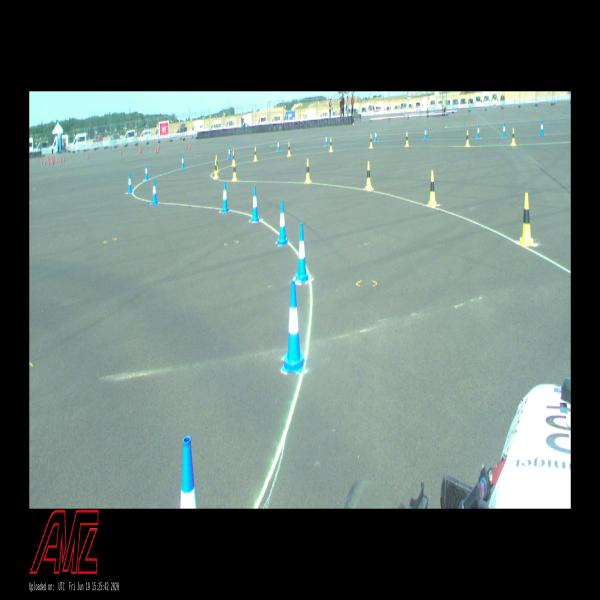blue_cone: (282, 281, 305, 372), (180, 436, 197, 509), (296, 222, 308, 282), (276, 199, 288, 246), (251, 186, 259, 222), (221, 181, 229, 213), (152, 178, 158, 204), (128, 173, 132, 193), (540, 120, 544, 136), (502, 123, 506, 137), (145, 164, 148, 180), (477, 125, 480, 138), (424, 127, 427, 140), (325, 134, 328, 146), (277, 140, 280, 152), (228, 147, 231, 159), (182, 155, 184, 168), (375, 130, 377, 141)
unknown_cone: (44, 159, 46, 166), (139, 147, 141, 154), (140, 146, 142, 153), (158, 144, 160, 151), (48, 156, 50, 162), (60, 156, 62, 162), (63, 156, 65, 162), (155, 146, 157, 152), (186, 142, 188, 148), (189, 142, 190, 150), (53, 158, 54, 165), (87, 153, 88, 160), (42, 159, 43, 165), (49, 158, 50, 164), (57, 157, 58, 163), (120, 148, 121, 154), (157, 147, 158, 153), (38, 157, 39, 162), (52, 156, 53, 161), (48, 156, 49, 160)
yellow_cone: (520, 192, 533, 246), (428, 170, 437, 207), (365, 161, 372, 189), (305, 158, 311, 183), (232, 160, 238, 180), (465, 130, 470, 147), (511, 128, 516, 145), (214, 160, 218, 178), (254, 146, 258, 161), (232, 151, 236, 166), (405, 132, 409, 146), (369, 134, 373, 148), (287, 142, 291, 156), (329, 138, 333, 151), (216, 155, 219, 172)
